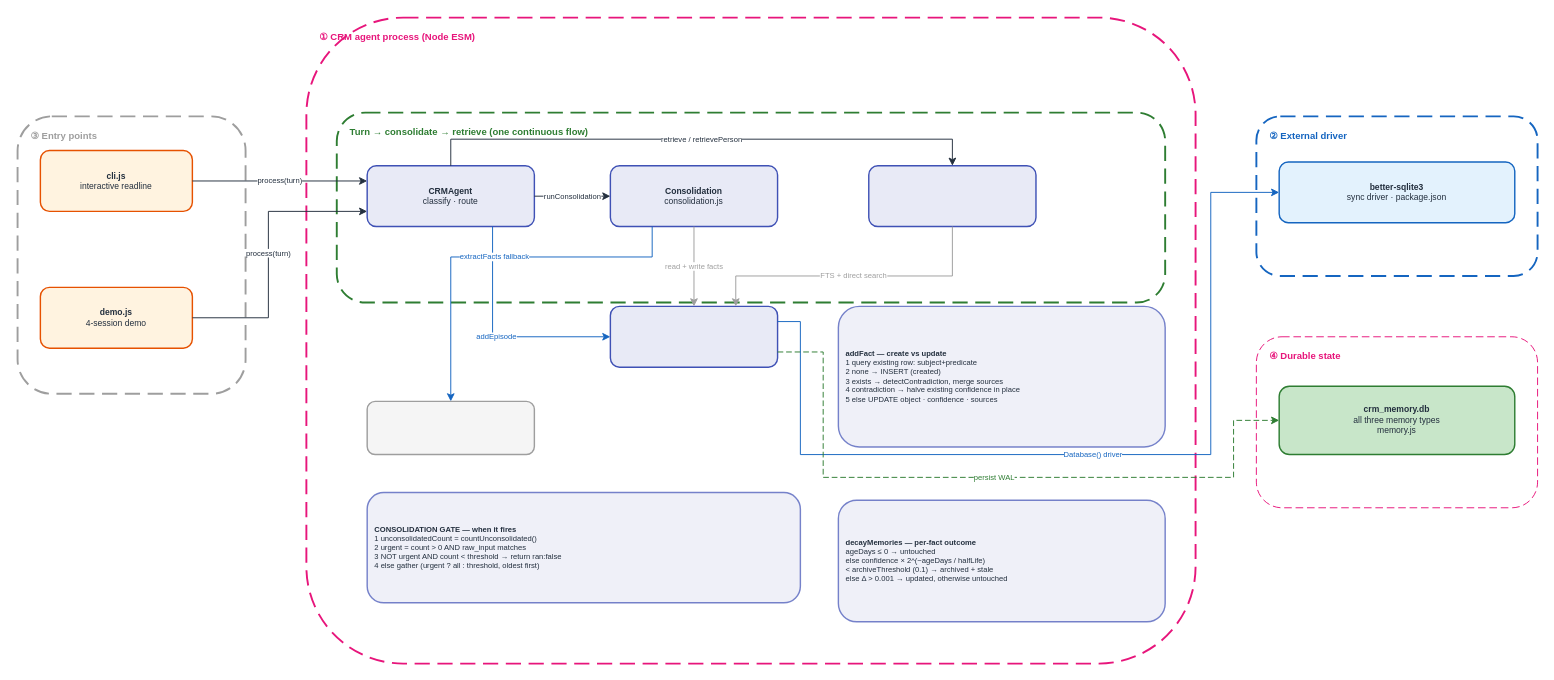
This 1554x680 diagram has some shape labels left out. The box of each missing label's shape, as (x1, y1, x2, y2) in pixels:
MemoryStore 3 memory types: (609, 305, 778, 367)
Mock extractor regex fallback: (366, 400, 535, 455)
Retrieval hybrid FTS: (868, 165, 1036, 227)
